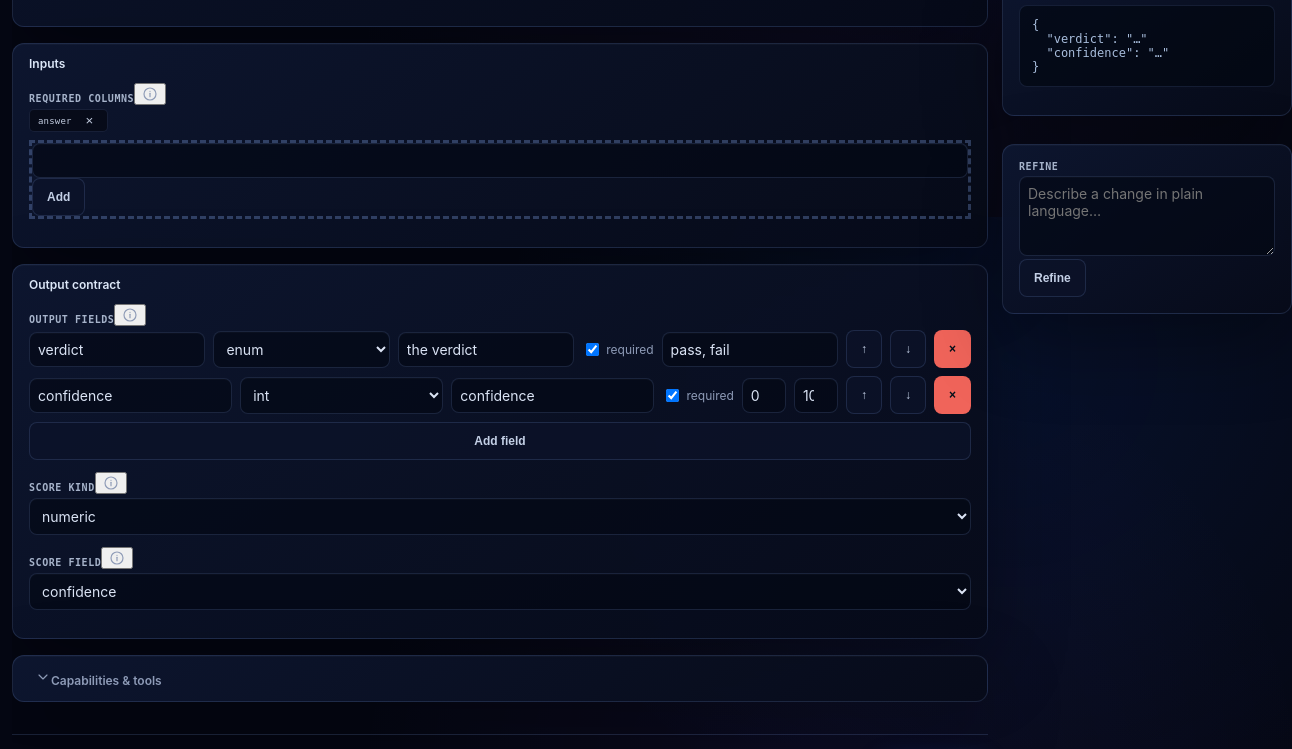
Test: VersionEditor: rail preview › updates the preview when an output field is removed
(page scrolled)
expect the text "\"verdict\": \"…\"" is shown: met, box [1032, 32, 1148, 46]
Click the button named "Remove field 0": [952, 349] box [934, 330, 971, 368]
(page scrolled)
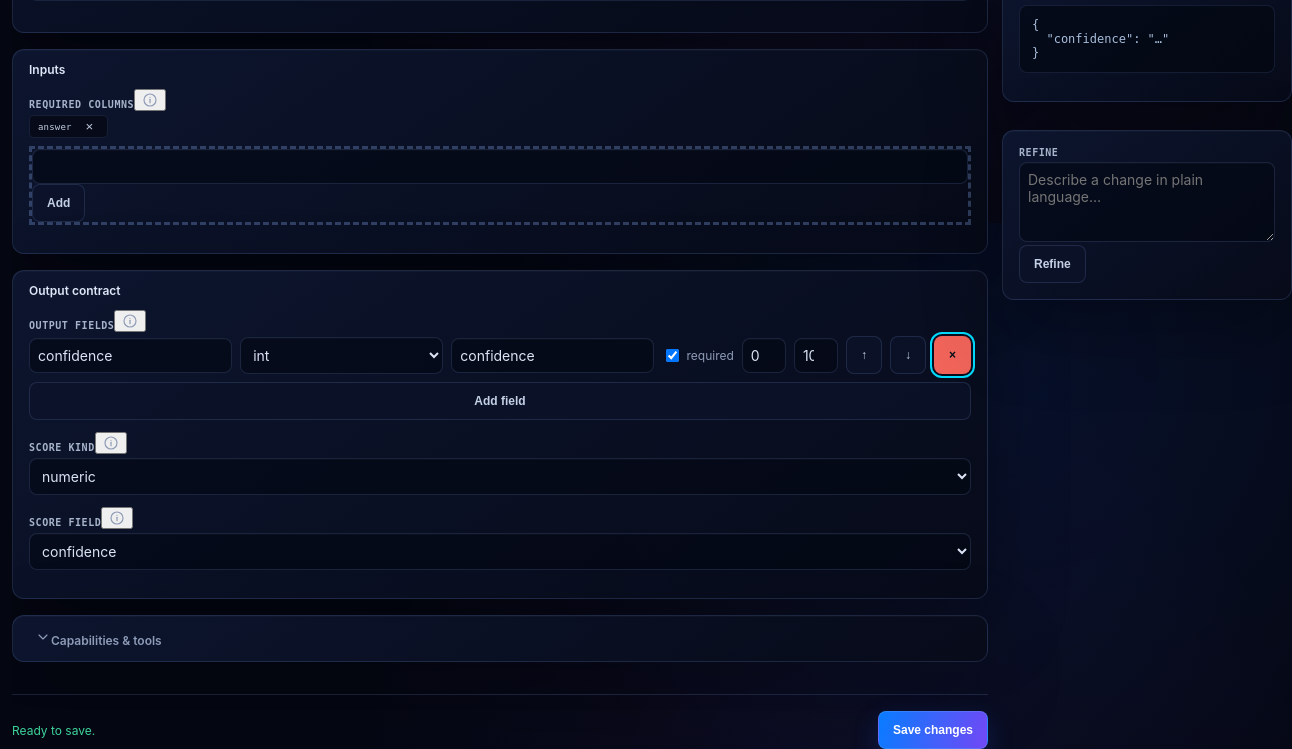
expect the text "\"verdict\":" is gone: met
expect the text "\"confidence\": \"…\"" is shown: met, box [1032, 32, 1169, 46]
